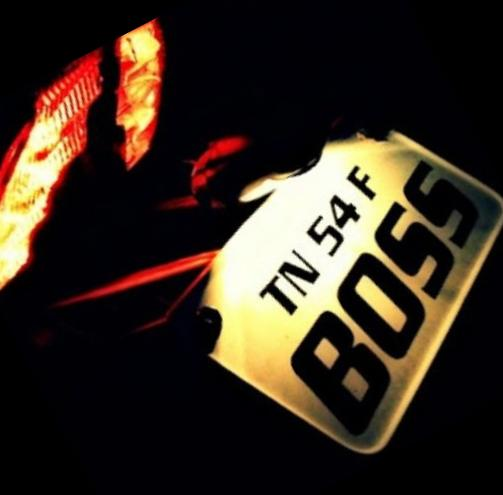plate: (132, 112, 503, 458)
